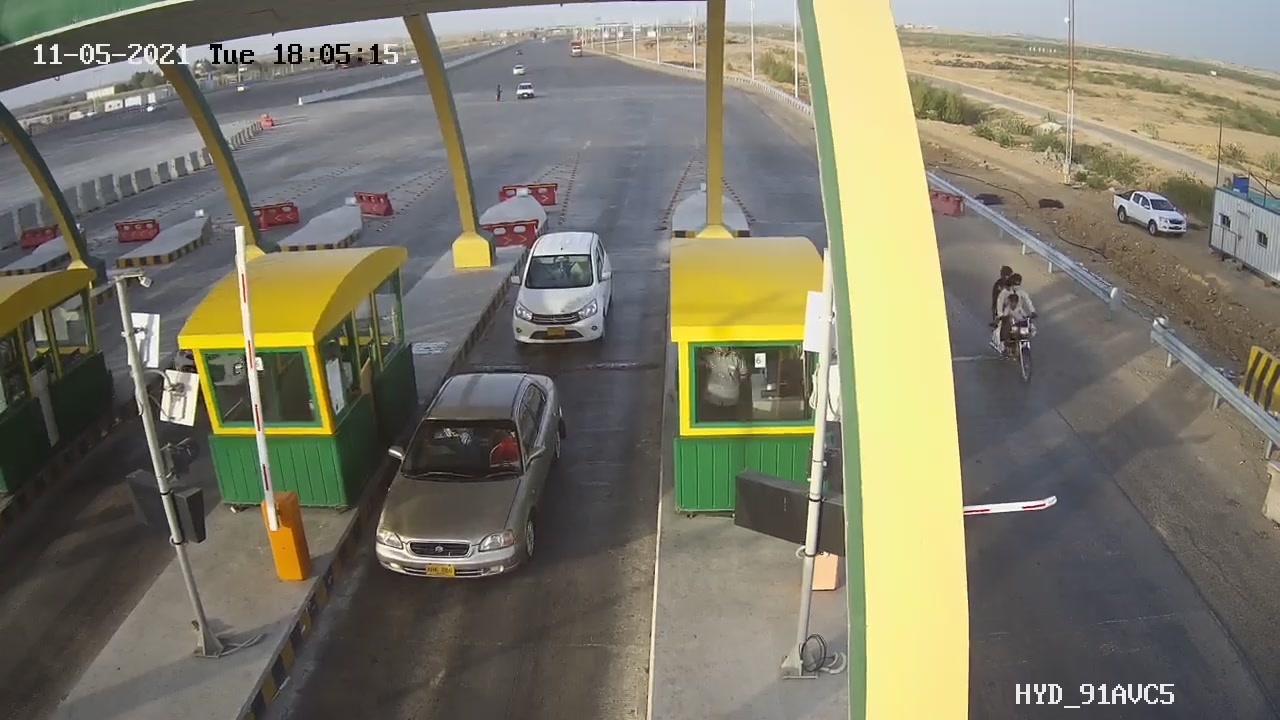F1: (365, 362, 583, 605), (483, 213, 626, 362)
